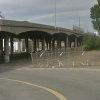Bridge: (1, 12, 91, 57)
